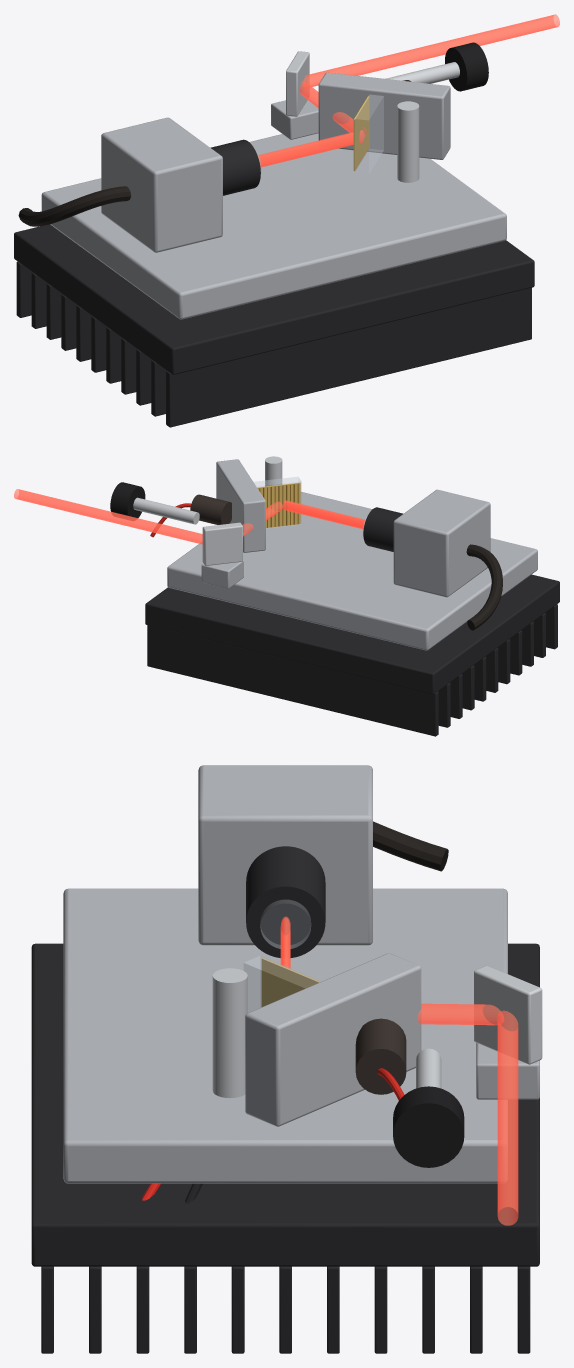
File: ecdl.glb
3 views of the same model, one above another, from view 1: azimuth 30°, elevation 25°; view 2: azimuth 150°, elevation 25°; view 3: azimuth 270°, elevation 25° (orthographic). The views are drawn at different scales.
Parts seen in each view (by area): view 1: socle, dissipateur, ailette_0, monture_diode, bras_pivot, beam_sortie, reseau, tube_collimation, pivot_lame, cable_diode, vis_bouton, miroir_support (+16 smaller); view 2: socle, dissipateur, ailette_10, monture_diode, bras_pivot, beam_sortie, miroir_renvoi, cable_diode, tube_collimation, reseau_face, vis_bouton, piezo (+15 smaller); view 3: socle, dissipateur, monture_diode, bras_pivot, tube_collimation, miroir_renvoi, vis_bouton, beam_sortie, pivot_lame, piezo, miroir_support, reseau (+16 smaller).
Part boxes in pixels (x1,y1,x2,y2): socle: [41, 133, 506, 319]; dissipateur: [14, 224, 534, 374]; ailette_0: [166, 287, 531, 427]; monture_diode: [101, 117, 222, 252]; bras_pivot: [318, 72, 450, 159]; beam_sortie: [303, 14, 559, 88]; reseau: [355, 95, 383, 174]; tube_collimation: [210, 139, 260, 195]; pivot_lame: [397, 101, 419, 182]; cable_diode: [18, 186, 131, 226]; vis_bouton: [445, 42, 488, 91]; miroir_support: [271, 99, 318, 139]; socle: [167, 492, 537, 650]; dissipateur: [145, 574, 559, 694]; ailette_10: [147, 625, 438, 736]; monture_diode: [393, 489, 490, 597]; bras_pivot: [216, 459, 265, 552]; beam_sortie: [14, 489, 202, 544]; miroir_renvoi: [202, 522, 242, 565]; cable_diode: [466, 544, 502, 630]; tube_collimation: [363, 507, 402, 551]; reseau_face: [257, 482, 300, 527]; vis_bouton: [110, 482, 145, 520]; piezo: [190, 494, 231, 524]; socle: [63, 888, 507, 1183]; dissipateur: [31, 943, 539, 1266]; monture_diode: [198, 765, 372, 945]; bras_pivot: [245, 953, 421, 1126]; tube_collimation: [246, 846, 325, 957]; miroir_renvoi: [474, 965, 542, 1064]; vis_bouton: [393, 1086, 464, 1167]; beam_sortie: [497, 1010, 518, 1225]; pivot_lame: [212, 968, 247, 1098]; piezo: [355, 1018, 406, 1094]; miroir_support: [476, 1043, 539, 1099]; reseau: [244, 956, 321, 1012].
Size of the model in its own units: 130 by 46.6 by 64.3.
